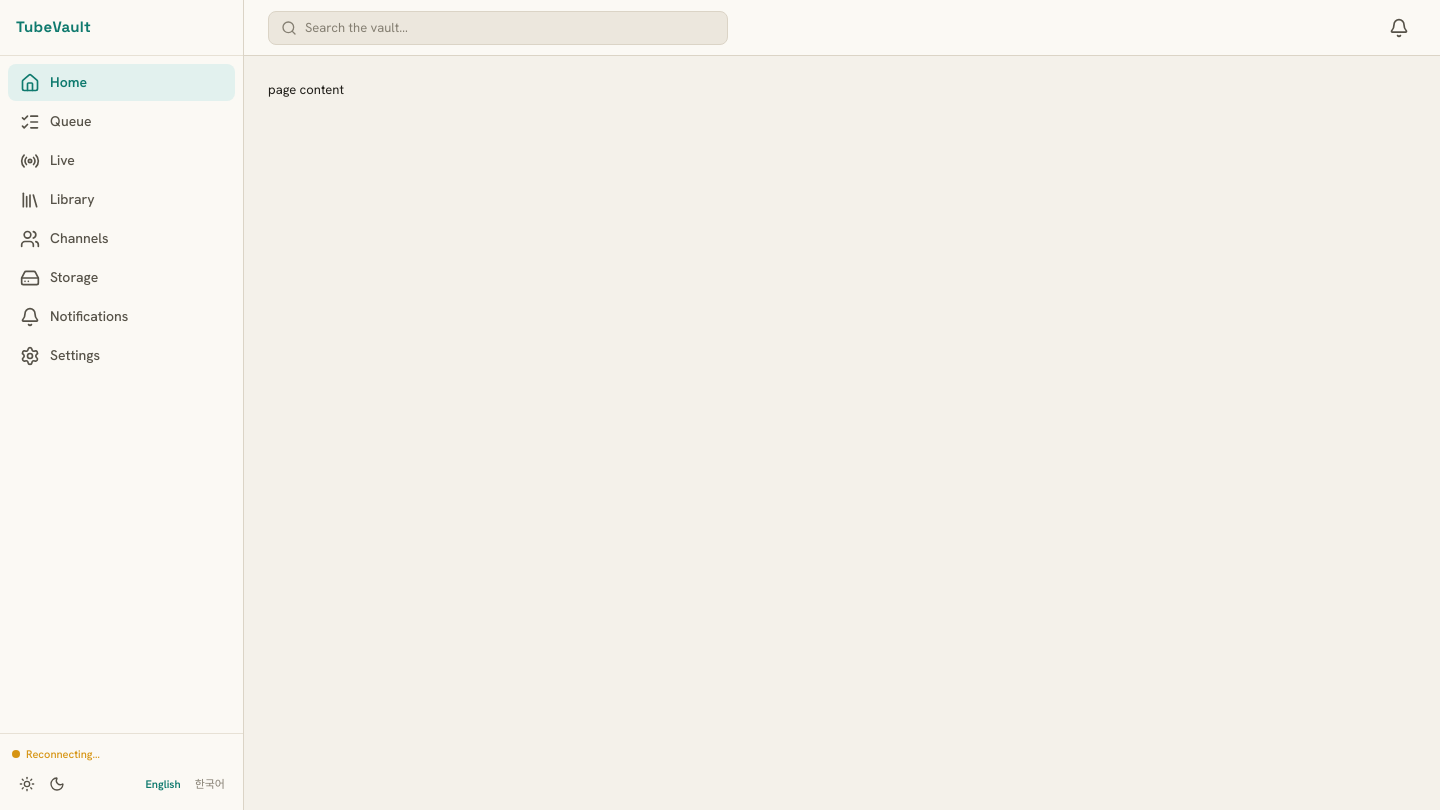
AppShell — chrome › lets the operator switch language (KO)
The image size is (1440, 810).
Click the button "한국어" at (210,784), box [189, 774, 231, 794]
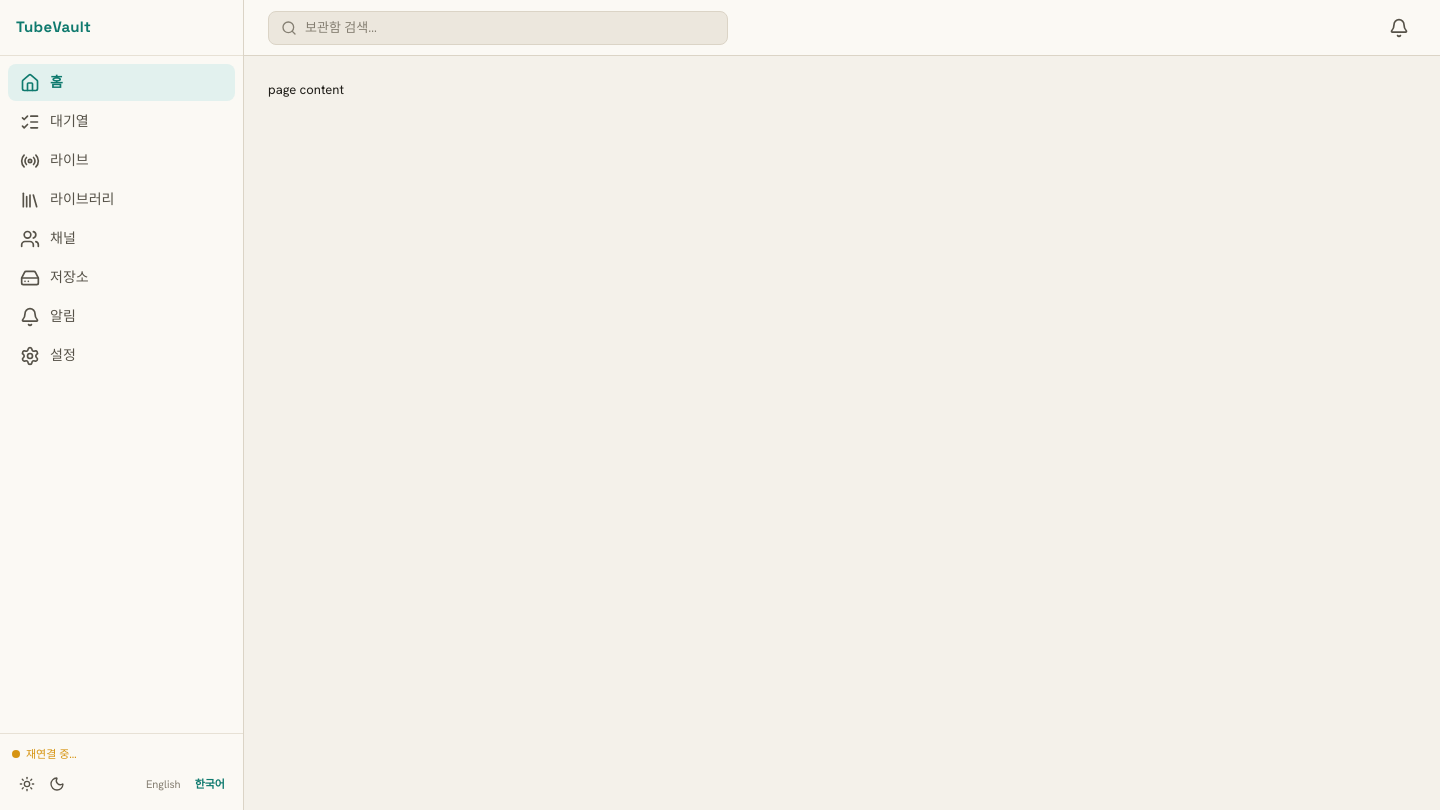
Check: the text "홈" is shown, box [50, 72, 63, 93]
